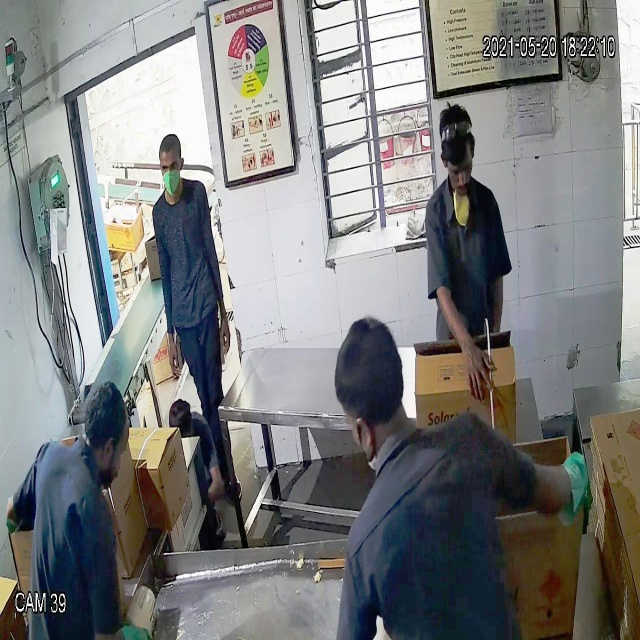Sin_gafas: (443, 159, 477, 182), (158, 153, 185, 178)
